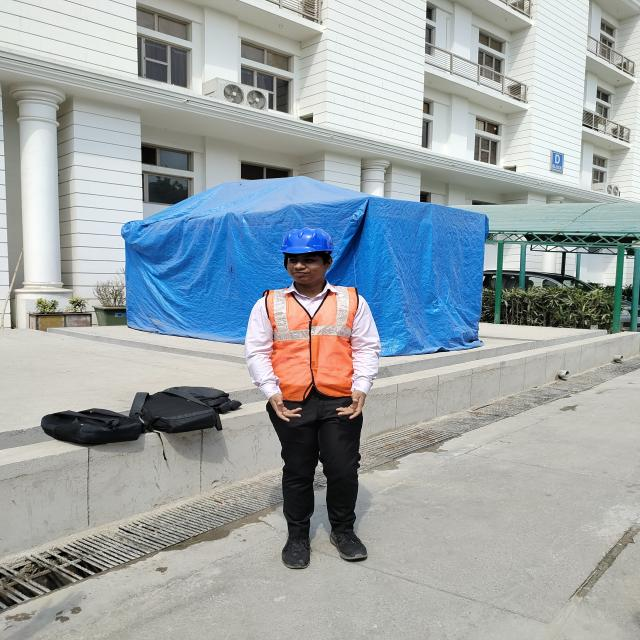safe: (247, 227, 376, 569)
